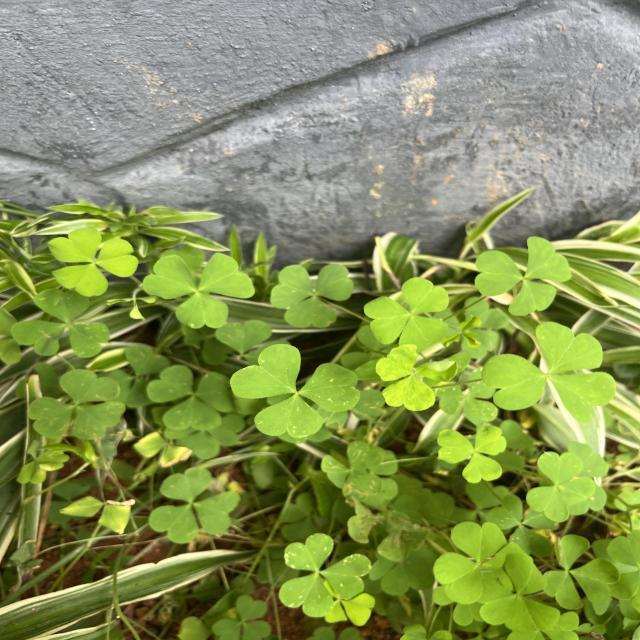Oxalis corniculata: (480, 321, 618, 424), (229, 340, 362, 440), (432, 520, 548, 606), (142, 252, 256, 330), (278, 532, 372, 618), (474, 236, 570, 316), (148, 466, 242, 544), (27, 368, 127, 441), (10, 288, 110, 358), (362, 276, 450, 354), (46, 226, 140, 298), (146, 363, 234, 431), (374, 344, 460, 412), (269, 262, 354, 330), (525, 450, 597, 523), (436, 424, 506, 484)
